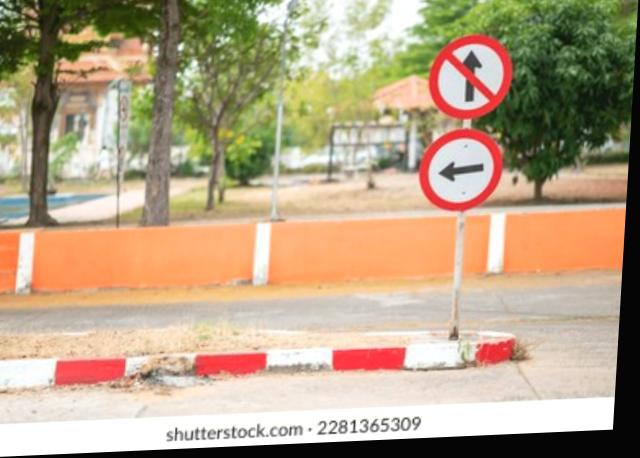not_go_straight: (427, 35, 519, 124)
